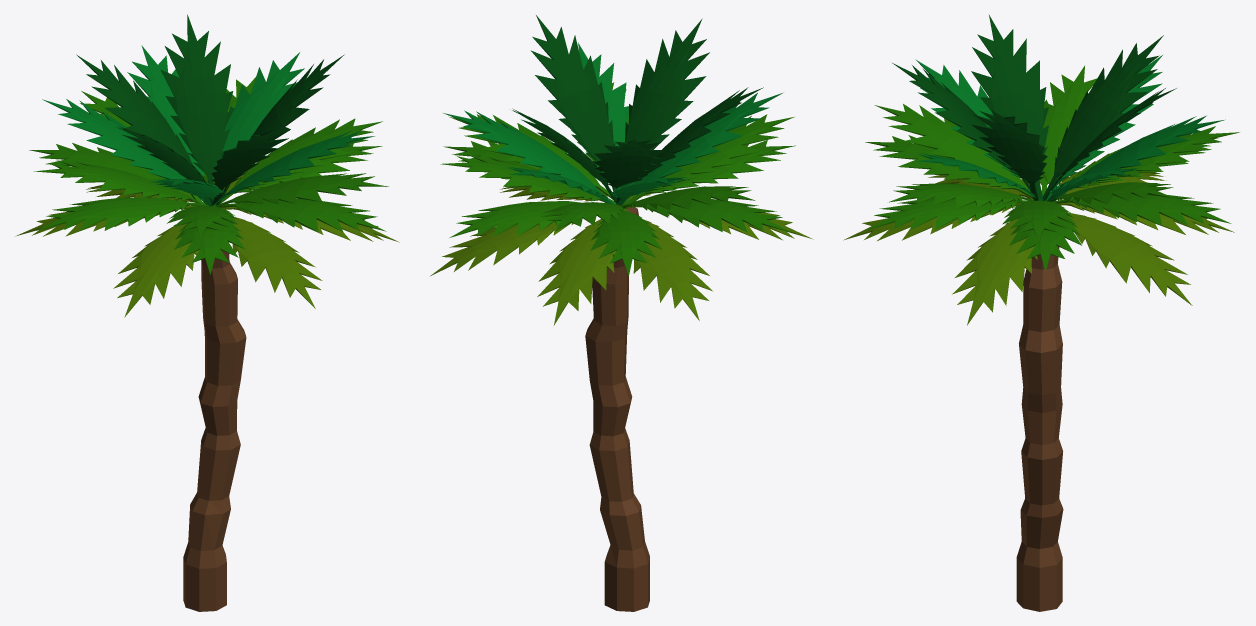
The model's file is Palme3.fbx.
3 views of the same model, side by side, from view 1: azimuth 30°, elevation 25°; view 2: azimuth 150°, elevation 25°; view 3: azimuth 270°, elevation 25° (orthographic). The views are drawn at different scales.
Visible parts, largest first — view 1: Palmblatt Reihe 5, Stamm 1, Palmblatt Reihe 2, Palmblatt Reihe 4, Palmblatt Reihe 3, Palmblatt Reihe 1; view 2: Palmblatt Reihe 5, Stamm 1, Palmblatt Reihe 1, Palmblatt Reihe 2, Palmblatt Reihe 3, Palmblatt Reihe 4; view 3: Palmblatt Reihe 5, Stamm 1, Palmblatt Reihe 3, Palmblatt Reihe 1, Palmblatt Reihe 2, Palmblatt Reihe 4.
Part boxes in pixels (<box>): Palmblatt Reihe 5: <box>76,14,344,205</box>; Stamm 1: <box>183,250,246,611</box>; Palmblatt Reihe 2: <box>29,143,386,274</box>; Palmblatt Reihe 4: <box>42,45,374,206</box>; Palmblatt Reihe 3: <box>33,77,388,238</box>; Palmblatt Reihe 1: <box>15,170,399,317</box>; Palmblatt Reihe 5: <box>512,15,763,203</box>; Stamm 1: <box>585,207,649,611</box>; Palmblatt Reihe 1: <box>430,183,813,325</box>; Palmblatt Reihe 2: <box>443,140,795,275</box>; Palmblatt Reihe 3: <box>440,82,794,231</box>; Palmblatt Reihe 4: <box>443,42,783,205</box>; Palmblatt Reihe 5: <box>892,15,1176,200</box>; Stamm 1: <box>1016,246,1063,611</box>; Palmblatt Reihe 3: <box>874,66,1239,241</box>; Palmblatt Reihe 1: <box>843,172,1234,325</box>; Palmblatt Reihe 2: <box>865,99,1231,271</box>; Palmblatt Reihe 4: <box>915,55,1225,201</box>.
Bounding box in the file's own units: 506 × 749 × 493.
